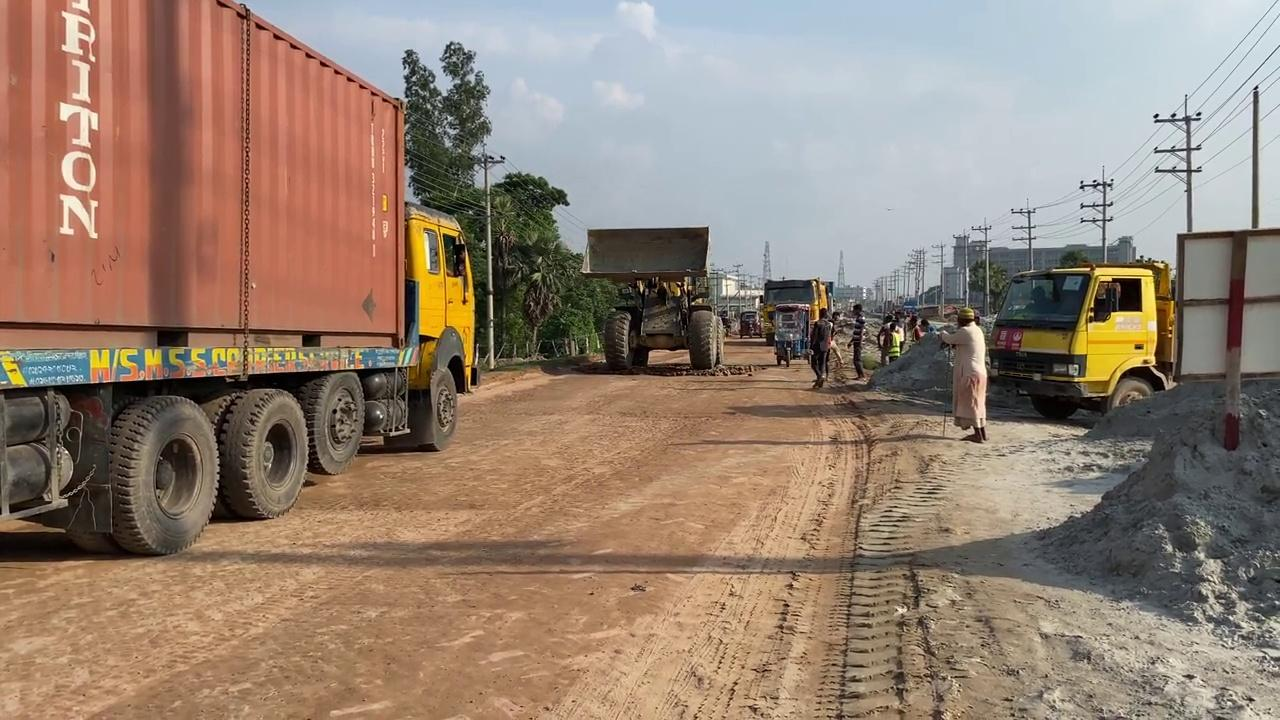Light-pole: (480, 149, 505, 369)
Obstacle: (0, 0, 478, 556)
Pole: (1249, 84, 1260, 228)
Tree: (359, 201, 481, 452), (986, 257, 1175, 418), (579, 225, 725, 372), (760, 277, 831, 345), (717, 287, 762, 338)
